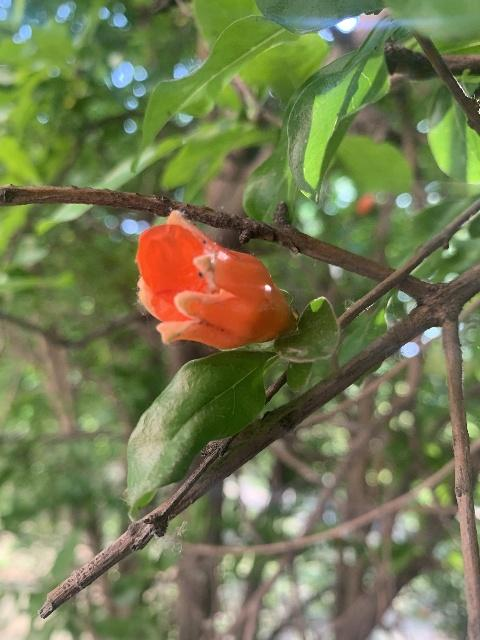flower: (133, 211, 292, 351)
